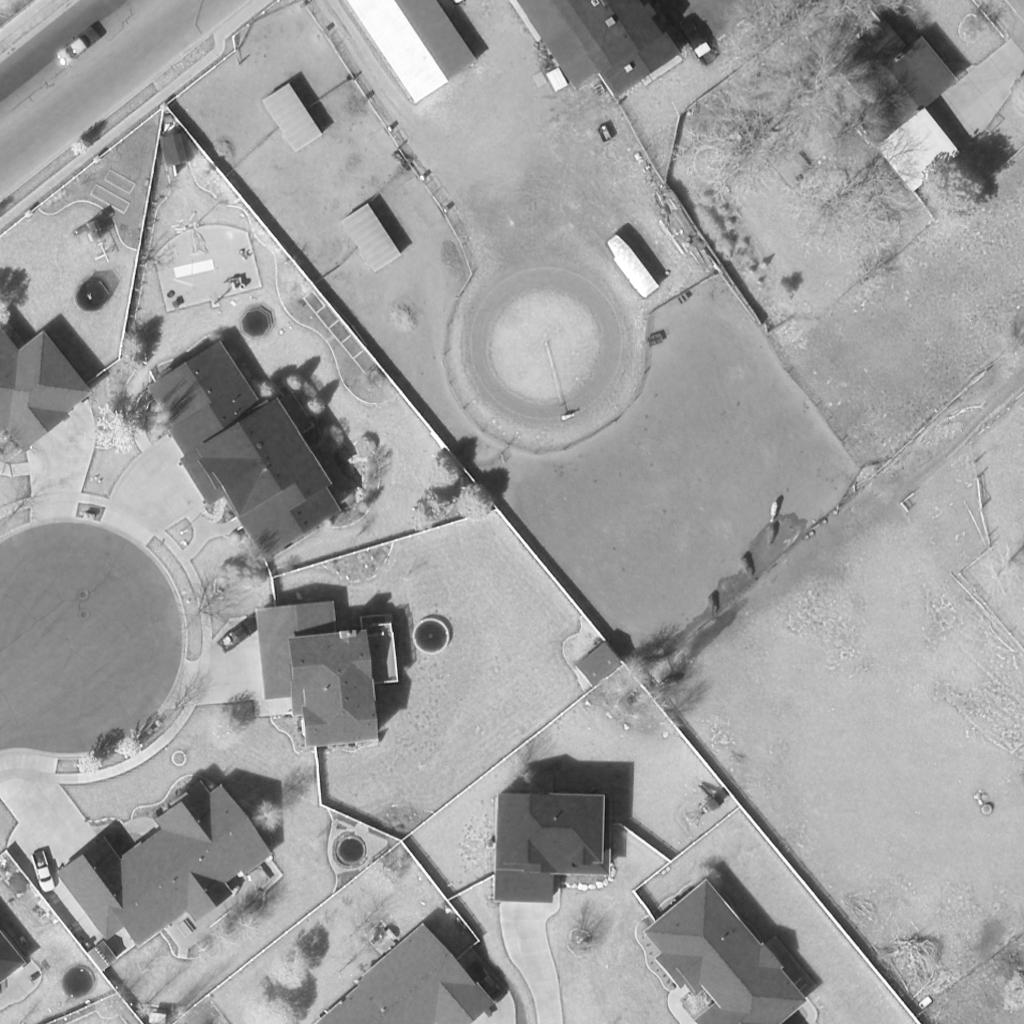vehicle: (600, 233, 662, 301), (51, 26, 105, 70), (461, 960, 507, 1002), (215, 616, 261, 654), (29, 849, 57, 893)
